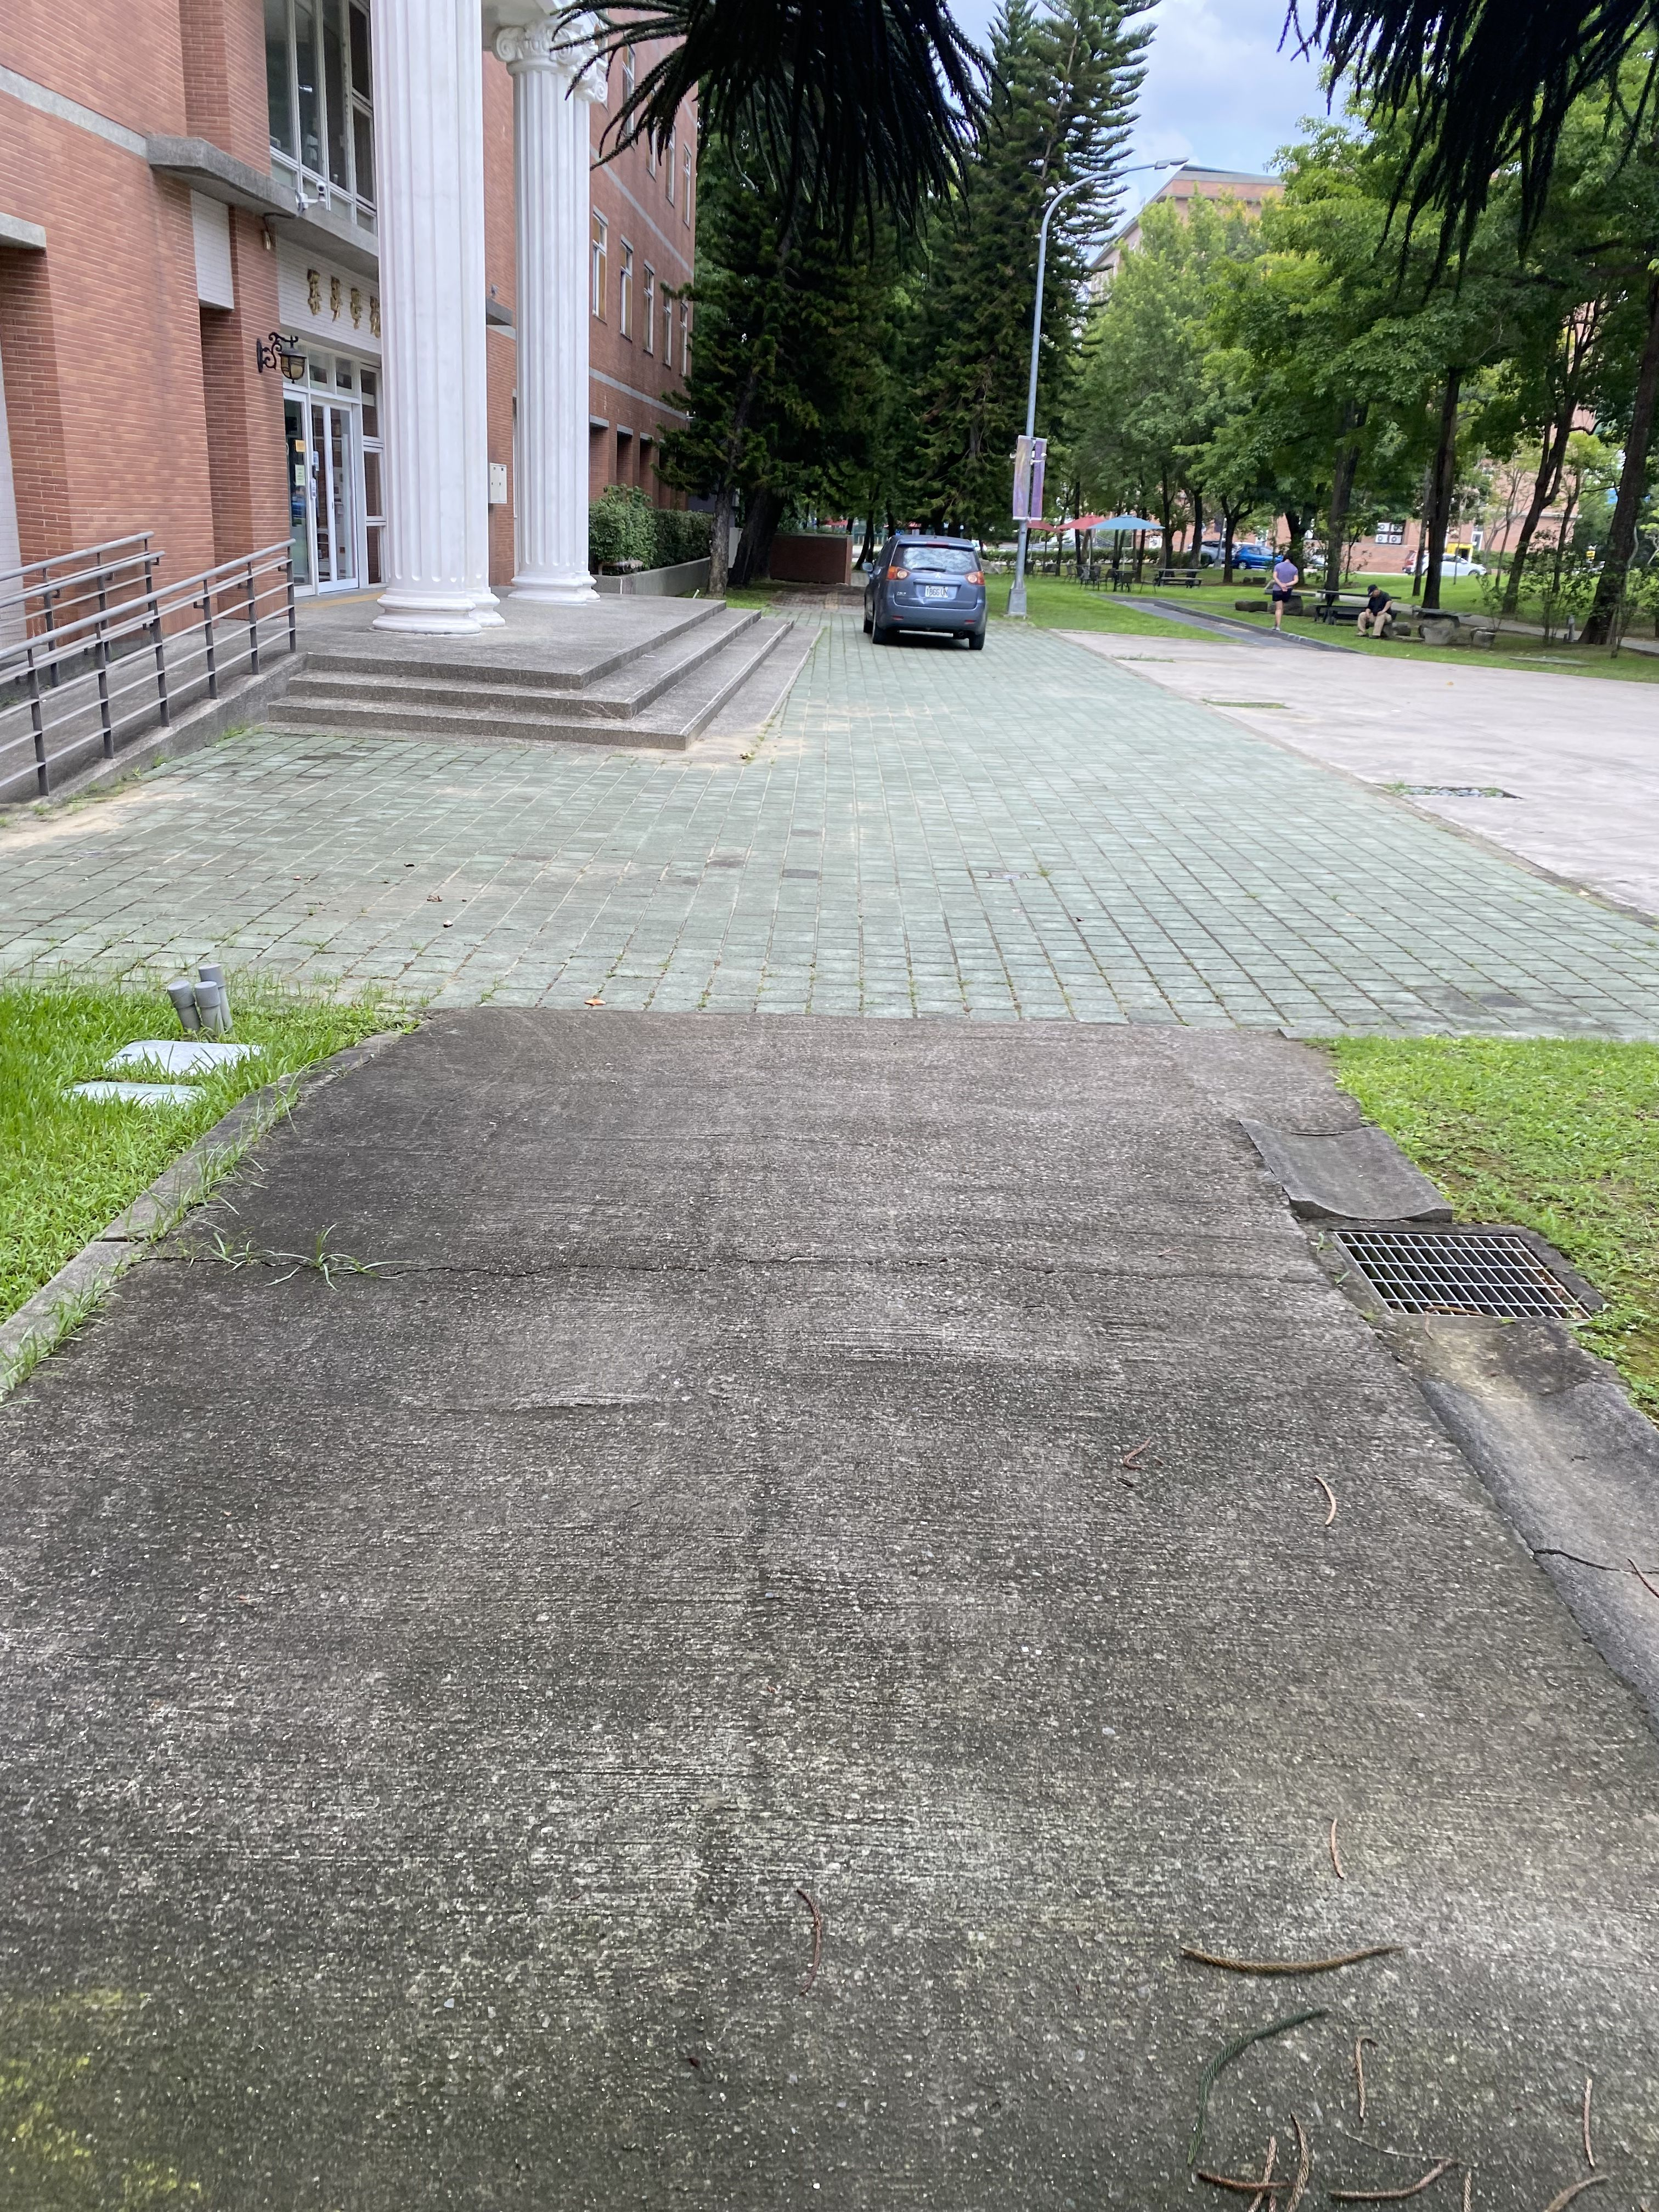sidewalk: (0, 570, 1659, 2212)
